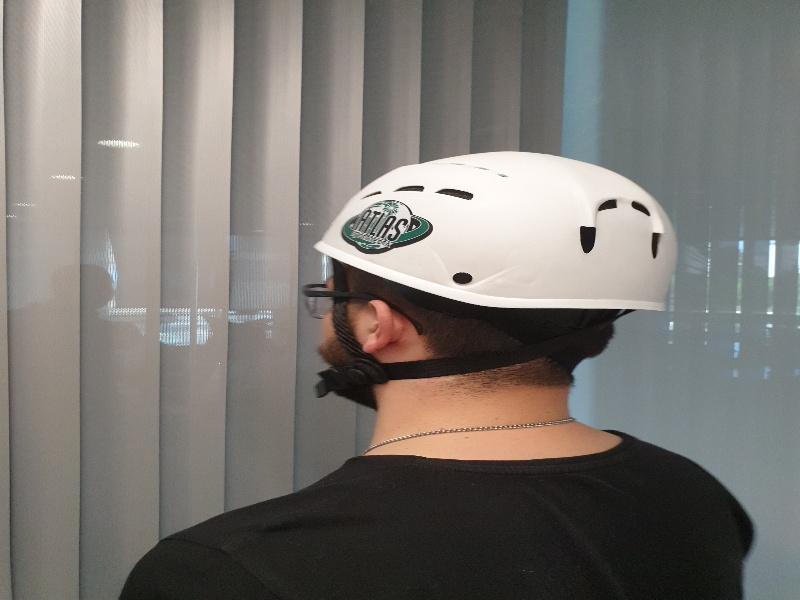Baret: (336, 154, 695, 312)
Gozluk: (304, 273, 385, 317)
